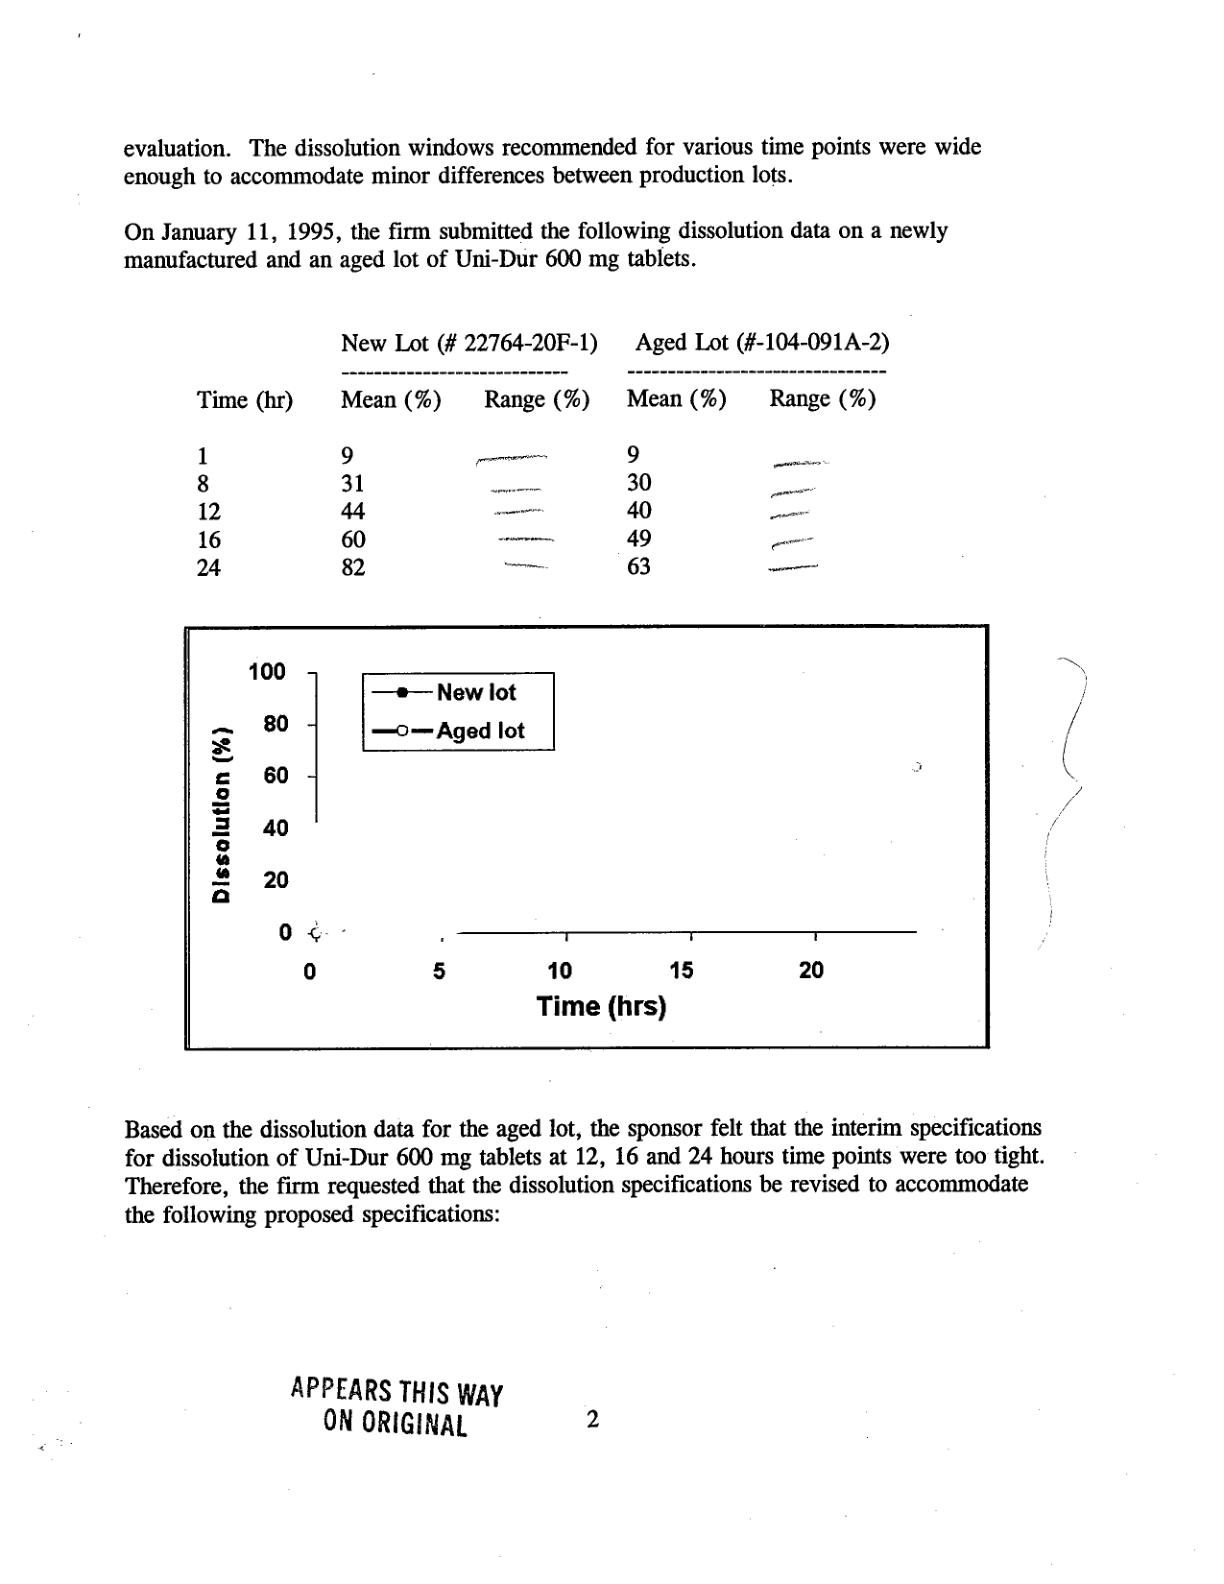nolines: (195, 327, 890, 580)
